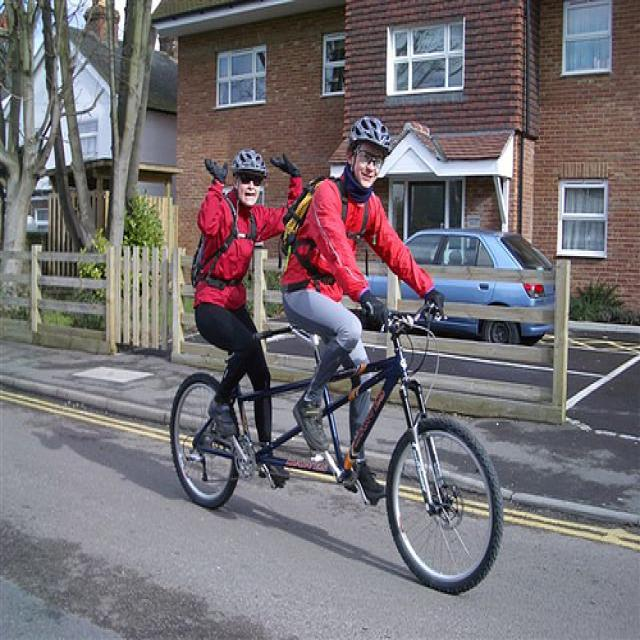light_vehicle: (360, 227, 556, 346)
